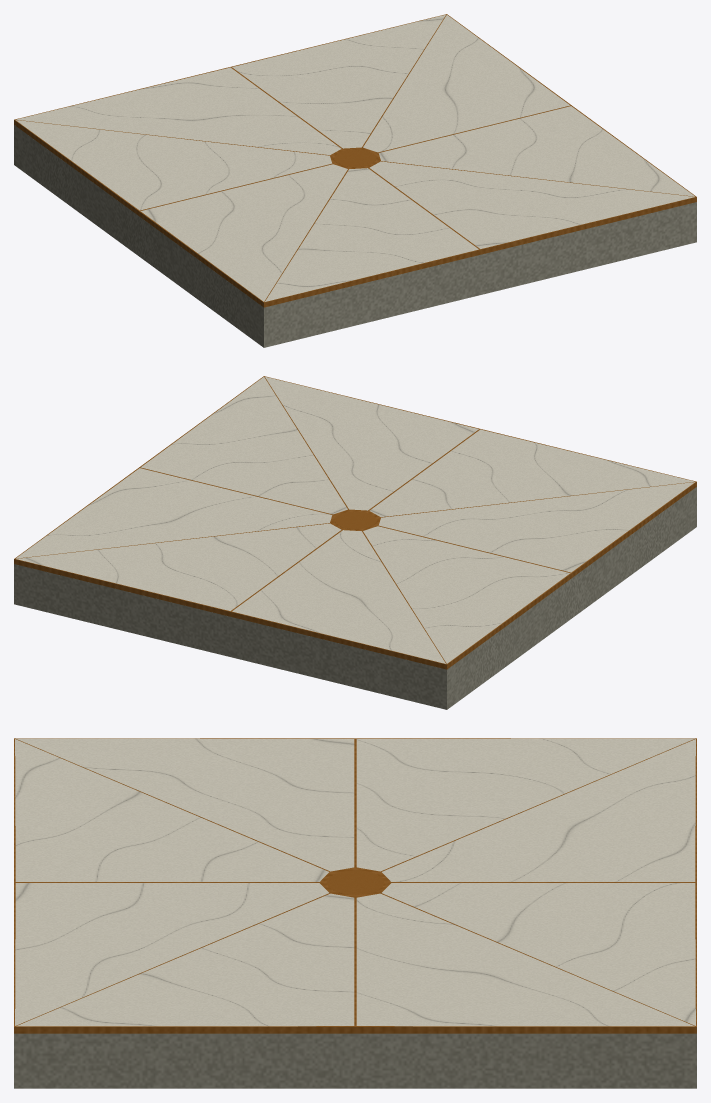
The picture shows the model from 3 angles, top to bottom: view 1: azimuth 30°, elevation 25°; view 2: azimuth 150°, elevation 25°; view 3: azimuth 270°, elevation 25°; orthographic projection. The views are drawn at different scales.
Visible parts, largest first — view 1: LOD1__Stone floor substrate, LOD1__Replaceable flush radial marble floor sector.001, LOD1__Replaceable flush radial marble floor sector.005, LOD1__Replaceable flush radial marble floor sector.006, LOD1__Replaceable flush radial marble floor sector.002, LOD1__Replaceable flush radial marble floor sector.004, LOD1__Replaceable flush radial marble floor sector, LOD1__Replaceable flush radial marble floor sector.007, LOD1__Replaceable flush radial marble floor sector.003, LOD1__Recessed continuous bronze inlay bed, LOD1__Flush solar medallion; view 2: LOD1__Stone floor substrate, LOD1__Replaceable flush radial marble floor sector, LOD1__Replaceable flush radial marble floor sector.004, LOD1__Replaceable flush radial marble floor sector.007, LOD1__Replaceable flush radial marble floor sector.003, LOD1__Replaceable flush radial marble floor sector.001, LOD1__Replaceable flush radial marble floor sector.005, LOD1__Replaceable flush radial marble floor sector.006, LOD1__Replaceable flush radial marble floor sector.002, LOD1__Recessed continuous bronze inlay bed, LOD1__Flush solar medallion; view 3: LOD1__Stone floor substrate, LOD1__Replaceable flush radial marble floor sector.002, LOD1__Replaceable flush radial marble floor sector.003, LOD1__Replaceable flush radial marble floor sector.006, LOD1__Replaceable flush radial marble floor sector.007, LOD1__Replaceable flush radial marble floor sector.001, LOD1__Replaceable flush radial marble floor sector.004, LOD1__Replaceable flush radial marble floor sector, LOD1__Replaceable flush radial marble floor sector.005, LOD1__Recessed continuous bronze inlay bed, LOD1__Flush solar medallion.
Part boxes in pixels (x1,y1,x2,y2): LOD1__Stone floor substrate: (14,125,696,347); LOD1__Replaceable flush radial marble floor sector.001: (369,161,694,248); LOD1__Replaceable flush radial marble floor sector.005: (16,67,341,154); LOD1__Replaceable flush radial marble floor sector.006: (16,120,332,210); LOD1__Replaceable flush radial marble floor sector.002: (378,106,694,196); LOD1__Replaceable flush radial marble floor sector.004: (232,14,445,148); LOD1__Replaceable flush radial marble floor sector: (265,168,478,301); LOD1__Replaceable flush radial marble floor sector.007: (140,164,347,301); LOD1__Replaceable flush radial marble floor sector.003: (363,15,569,152); LOD1__Recessed continuous bronze inlay bed: (14,14,696,307); LOD1__Flush solar medallion: (334,149,376,167); LOD1__Stone floor substrate: (14,487,696,709); LOD1__Replaceable flush radial marble floor sector: (369,429,694,516); LOD1__Replaceable flush radial marble floor sector.004: (16,523,341,610); LOD1__Replaceable flush radial marble floor sector.007: (378,482,694,572); LOD1__Replaceable flush radial marble floor sector.003: (16,468,332,558); LOD1__Replaceable flush radial marble floor sector.001: (265,376,478,510); LOD1__Replaceable flush radial marble floor sector.005: (232,530,445,663); LOD1__Replaceable flush radial marble floor sector.006: (363,526,570,663); LOD1__Replaceable flush radial marble floor sector.002: (141,377,347,514); LOD1__Recessed continuous bronze inlay bed: (14,376,696,669); LOD1__Flush solar medallion: (334,511,376,529); LOD1__Stone floor substrate: (14,1033,696,1088); LOD1__Replaceable flush radial marble floor sector.002: (16,893,354,1026); LOD1__Replaceable flush radial marble floor sector.003: (356,893,694,1026); LOD1__Replaceable flush radial marble floor sector.006: (356,738,694,871); LOD1__Replaceable flush radial marble floor sector.007: (16,738,354,871); LOD1__Replaceable flush radial marble floor sector.001: (15,883,328,1025); LOD1__Replaceable flush radial marble floor sector.004: (382,883,695,1025); LOD1__Replaceable flush radial marble floor sector: (15,739,328,881); LOD1__Replaceable flush radial marble floor sector.005: (382,739,695,881); LOD1__Recessed continuous bronze inlay bed: (14,738,696,1033); LOD1__Flush solar medallion: (326,870,384,894).
Size of the model in its own units: 4 by 0.4 by 4.
Materials: 3 (3 with a texture image).
